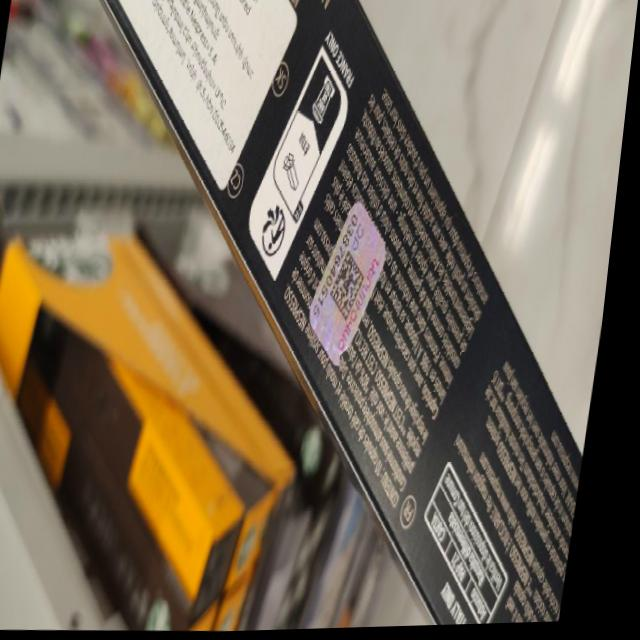datamatrix: (334, 249, 376, 325)
